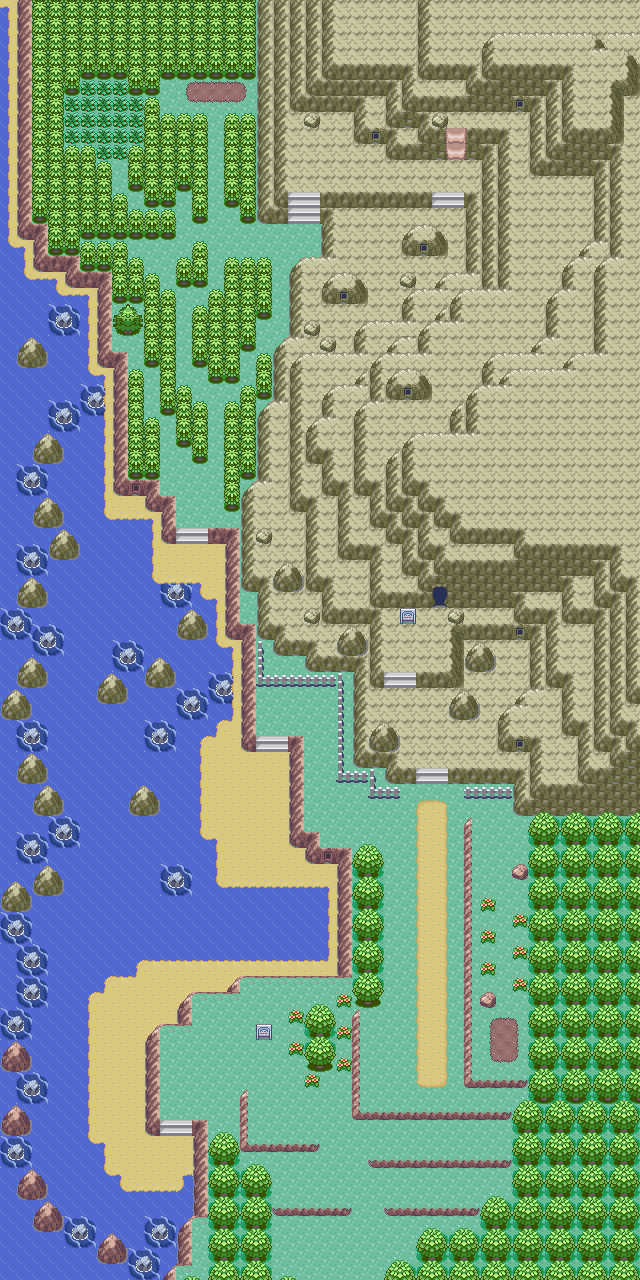cave: (408, 568, 467, 612)
